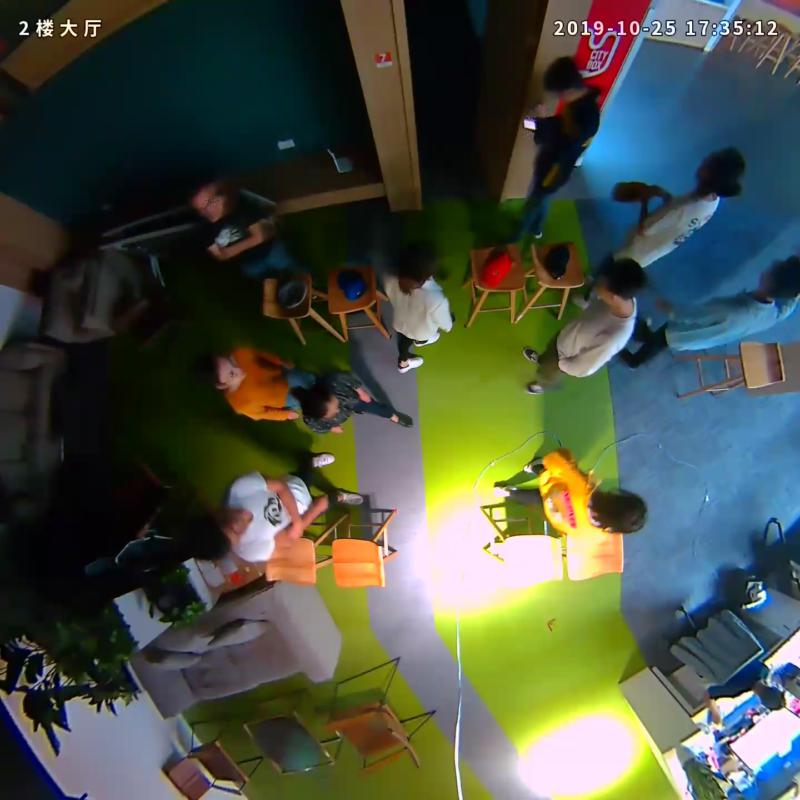head: (192, 508, 249, 560), (593, 486, 647, 535), (694, 146, 745, 197), (593, 257, 646, 305), (195, 350, 248, 392), (397, 239, 438, 292), (182, 176, 227, 223), (543, 57, 584, 103), (300, 385, 341, 421)
